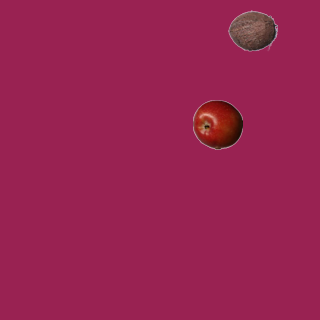Apple Braeburn: (192, 99, 242, 149)
Cocos: (227, 5, 277, 55)
